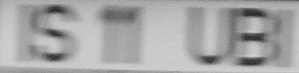1: (121, 5, 151, 68), (92, 2, 120, 68)
B: (233, 4, 273, 71)
I: (9, 1, 37, 67), (273, 7, 298, 73)
S: (32, 2, 80, 64)
U: (185, 1, 236, 69)
